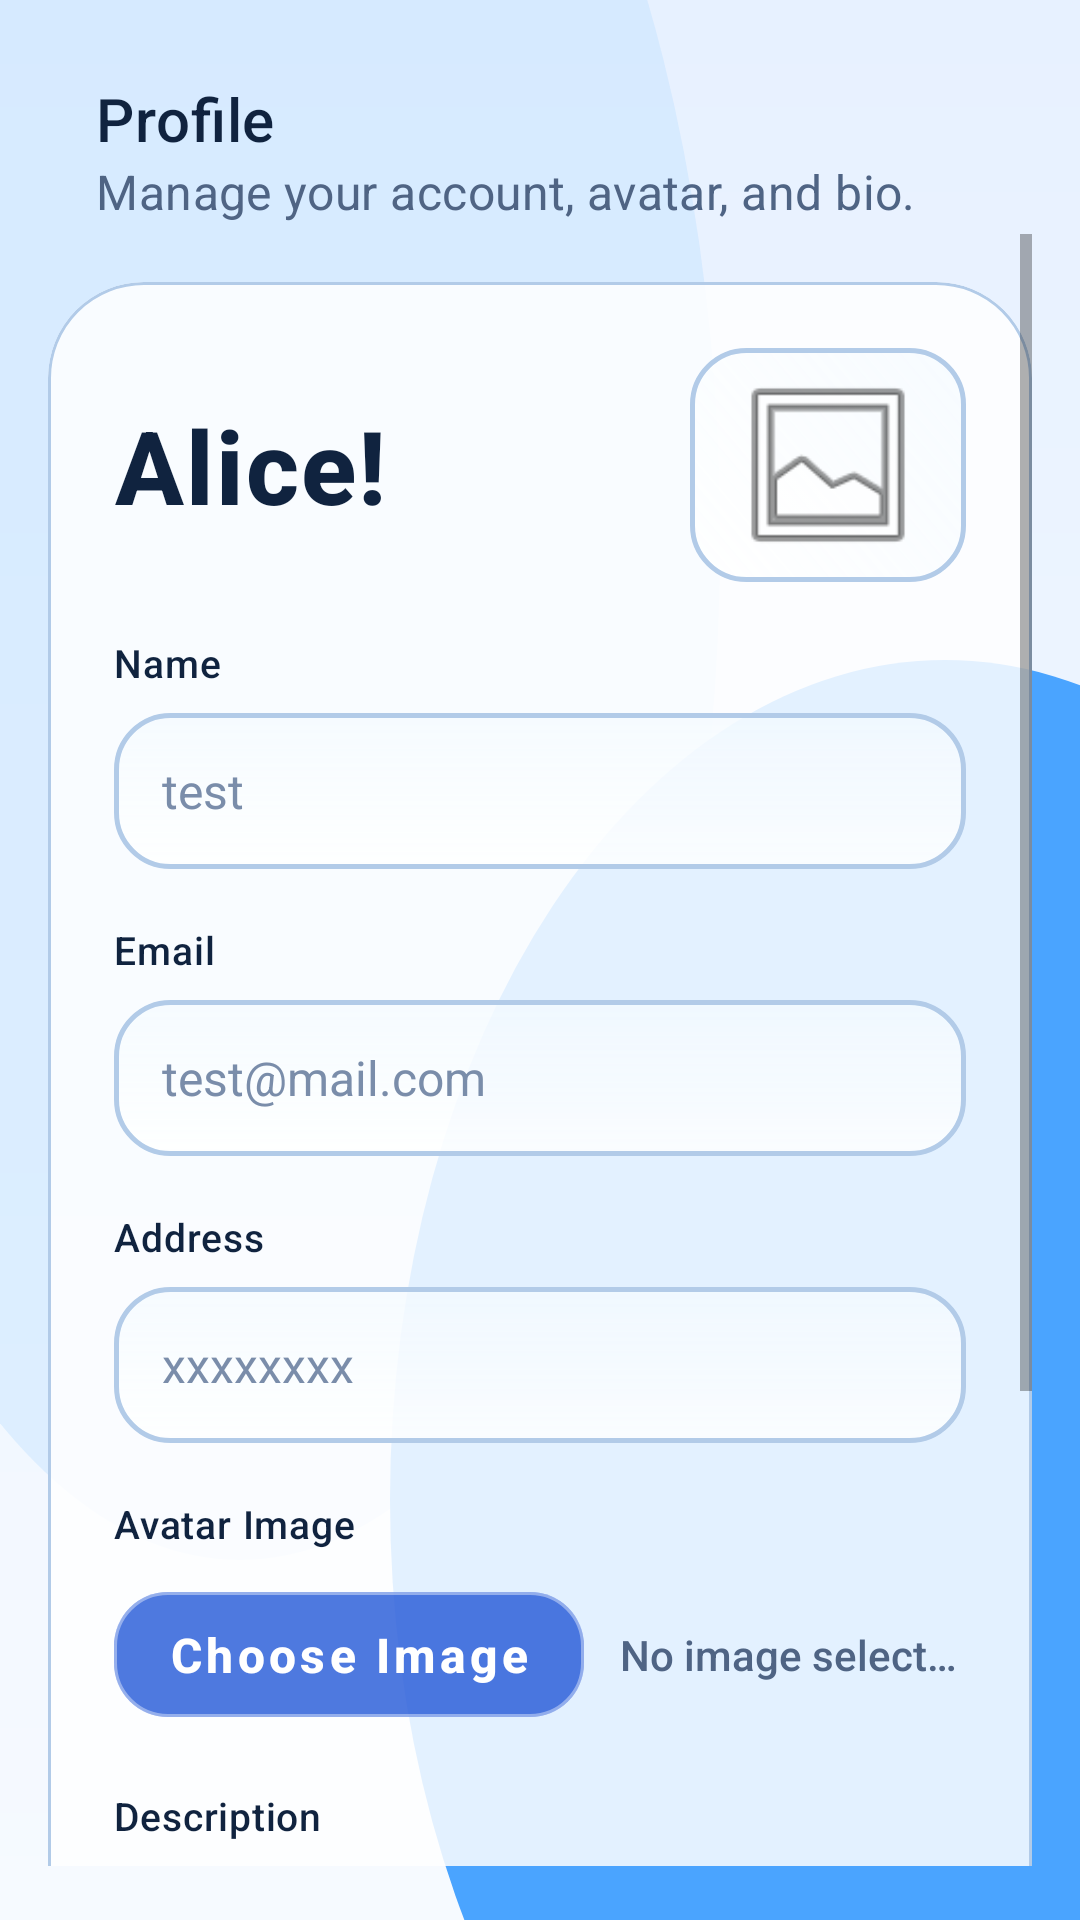

Locate icon controls on the screen. Image size 1080 × 1920, boxes as detection(x1, y1, x2, y2).
Avatar placeholder: detection(751, 388, 905, 542)
